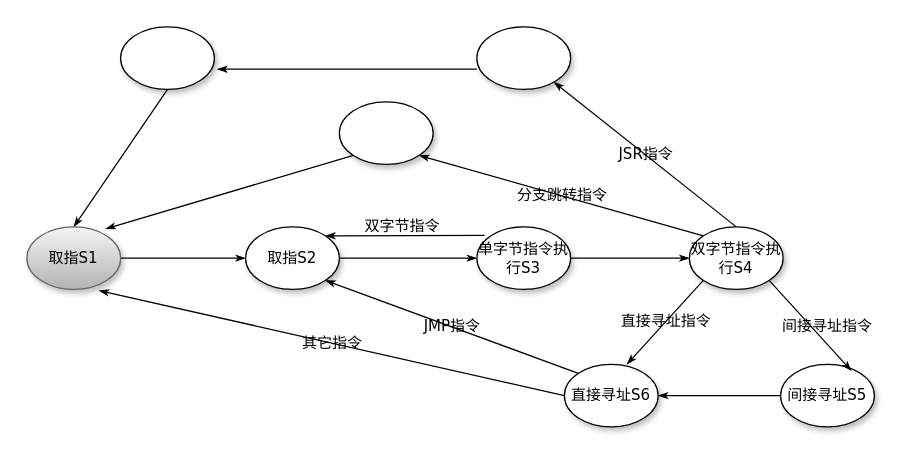
The diagram is 904 pixels wide and 458 high, and some of its shapes have lost their labels. The shapes that lost their labels are listed below. From the top down, each one's centre as x and y in pixels, then its label:
(x=168, y=59): JSR S8
(x=524, y=59): JSR S7
(x=387, y=134): 分支跳转S9
